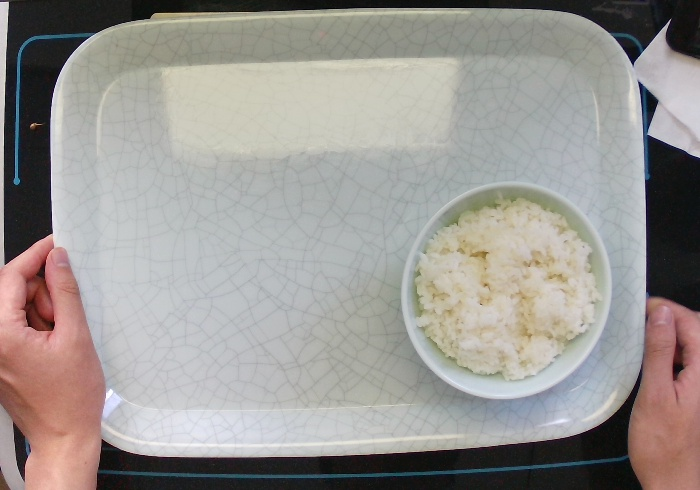JYsf-Fan_Wan: (399, 178, 614, 401)
